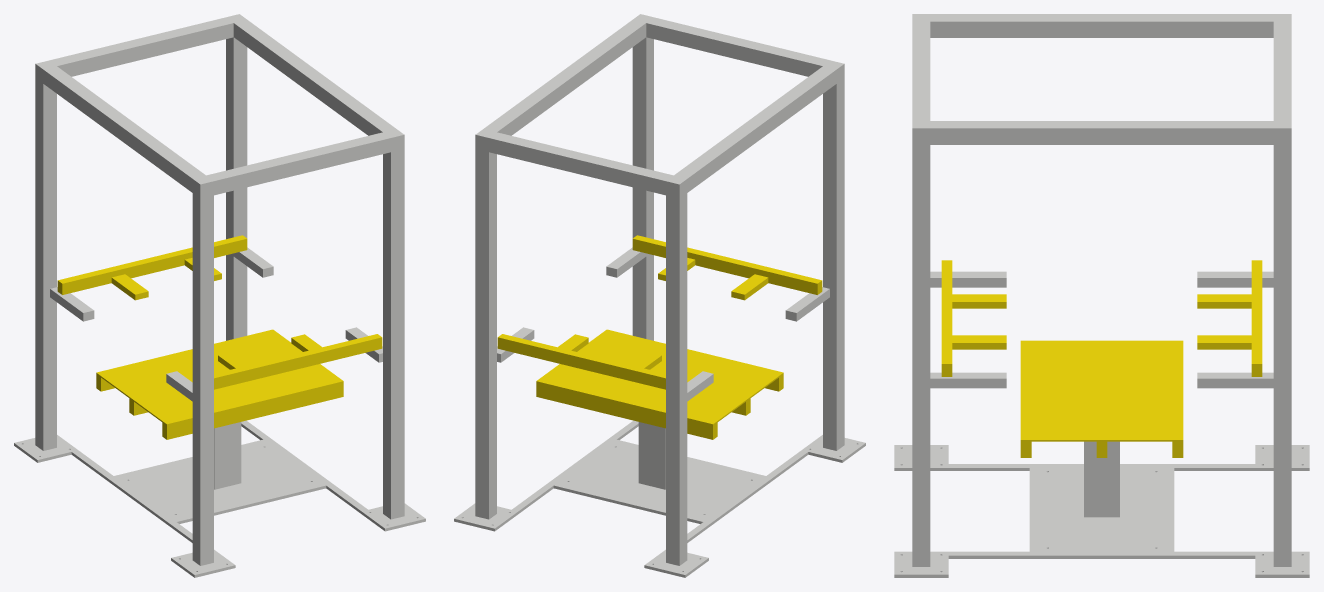
File: lift-stacker.glb
The picture shows the model from 3 angles, left to right: view 1: azimuth 30°, elevation 25°; view 2: azimuth 150°, elevation 25°; view 3: azimuth 270°, elevation 25°; orthographic projection. The views are drawn at different scales.
Visible parts, largest first — view 1: body, table, fork-1, fork-2; view 2: body, table, fork-2, fork-1; view 3: body, table, fork-1, fork-2.
Part boxes in pixels (x1,y1,x2,y2): body: [14, 14, 425, 577]; table: [96, 329, 343, 439]; fork-1: [214, 334, 382, 389]; fork-2: [57, 235, 247, 300]; body: [454, 14, 865, 577]; table: [536, 329, 783, 439]; fork-2: [497, 334, 665, 389]; fork-1: [632, 235, 822, 300]; body: [894, 14, 1309, 577]; table: [1020, 340, 1183, 457]; fork-1: [941, 260, 1006, 376]; fork-2: [1197, 260, 1262, 376].
Size of what is drawn, in the model's own units: 1.7 by 2.7 by 2.3.
